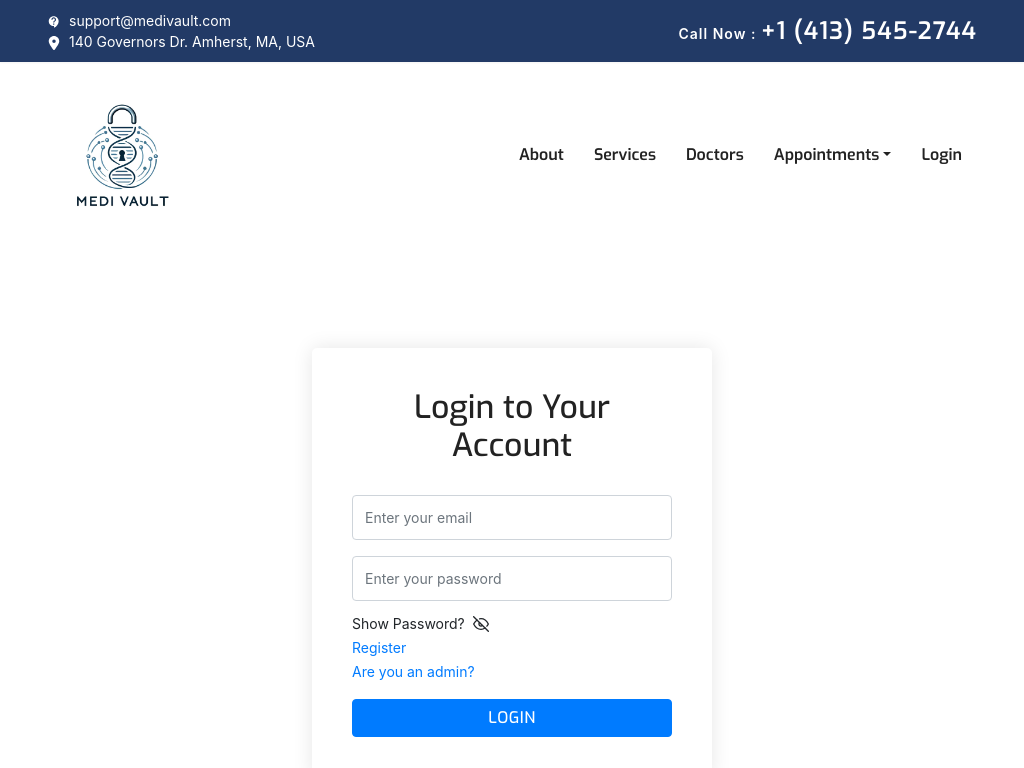
Login functionality › should display password in plain text when "Show Password" is clicked
The image size is (1024, 768).
Type "password123" into the password field with placeholder "Enter your password" at [512, 579], box [352,556,672,601]
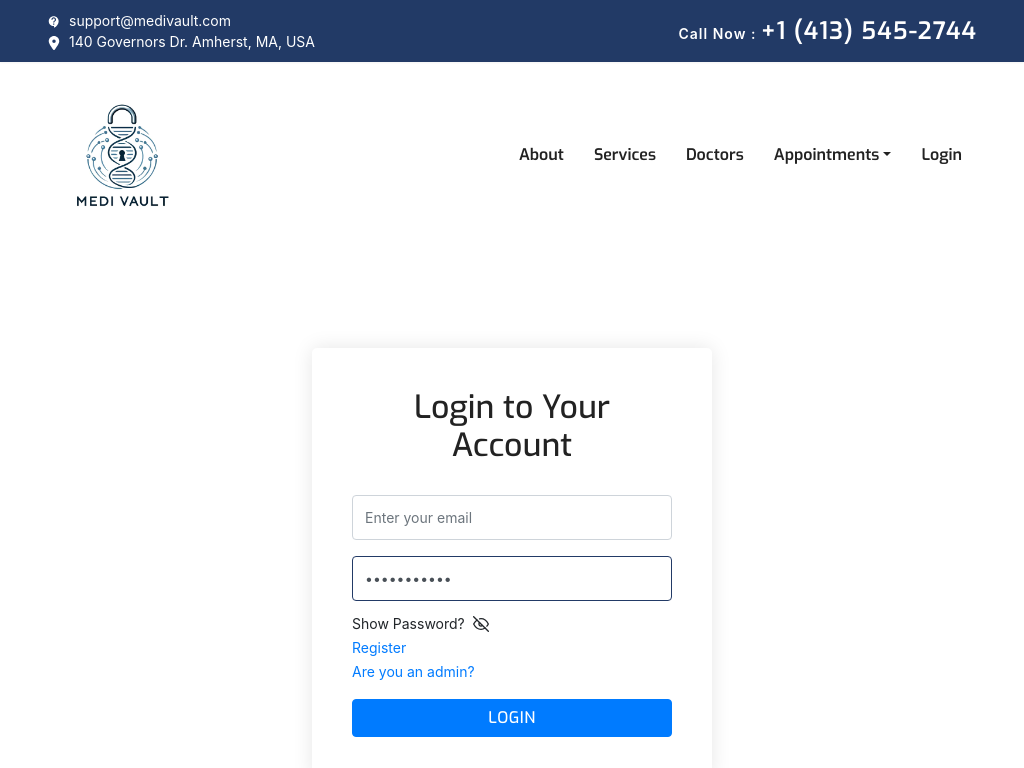
Click the text with id "showPassword" at [413, 624], box [352,613,473,634]
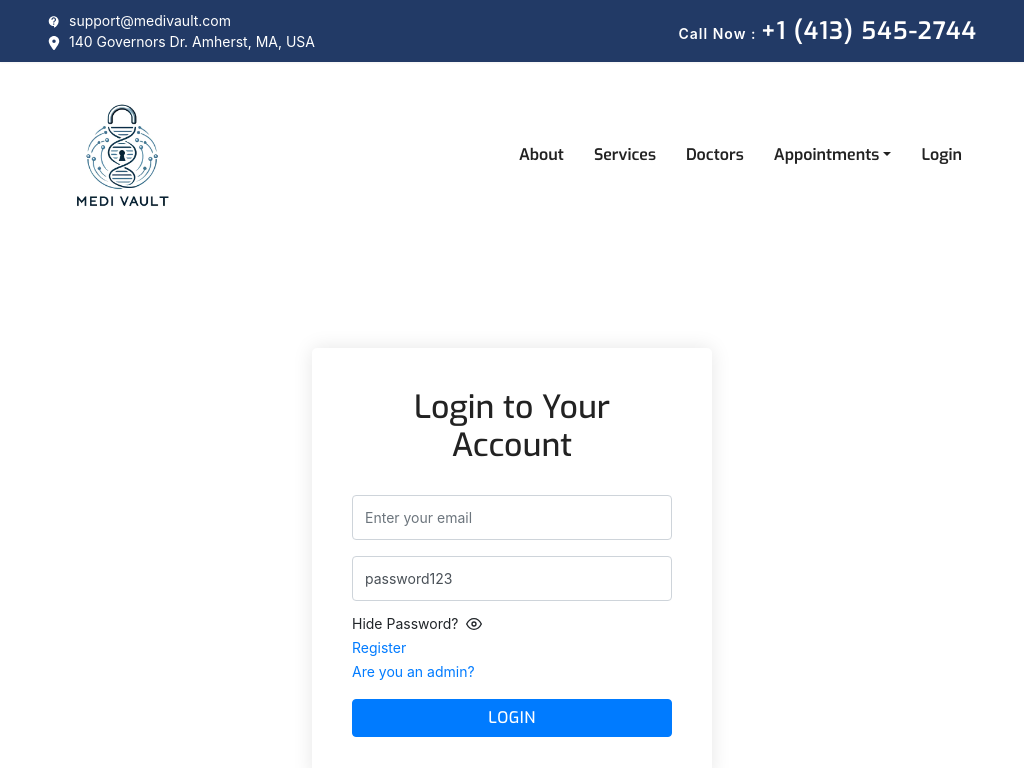
expect the 2nd field shows its text: met, box [352,556,672,601]
